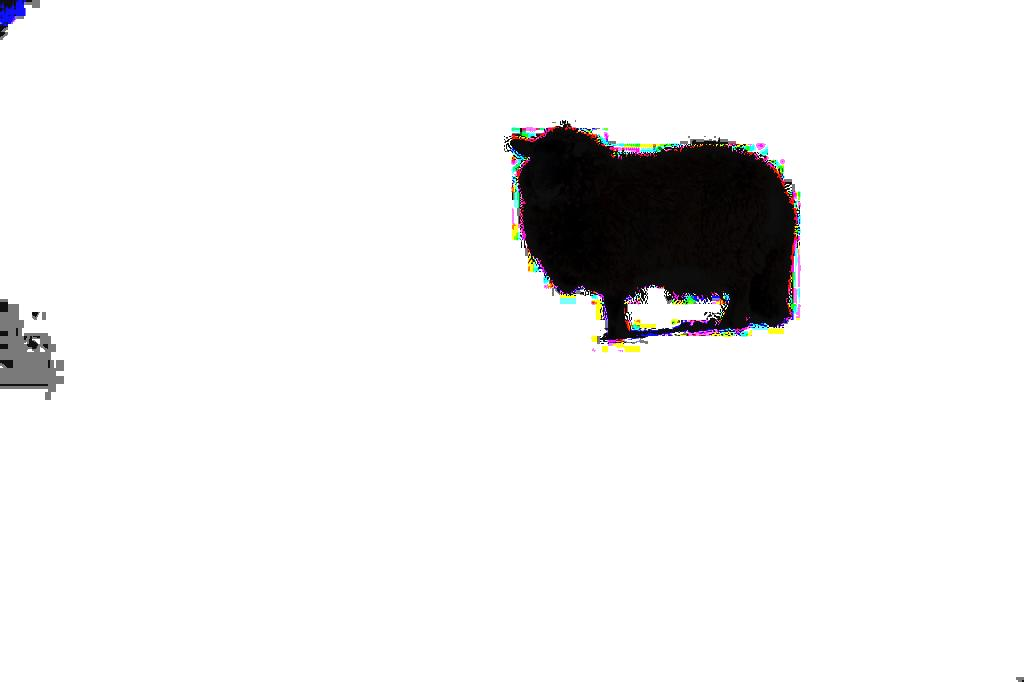Sheep: (513, 125, 793, 340)
